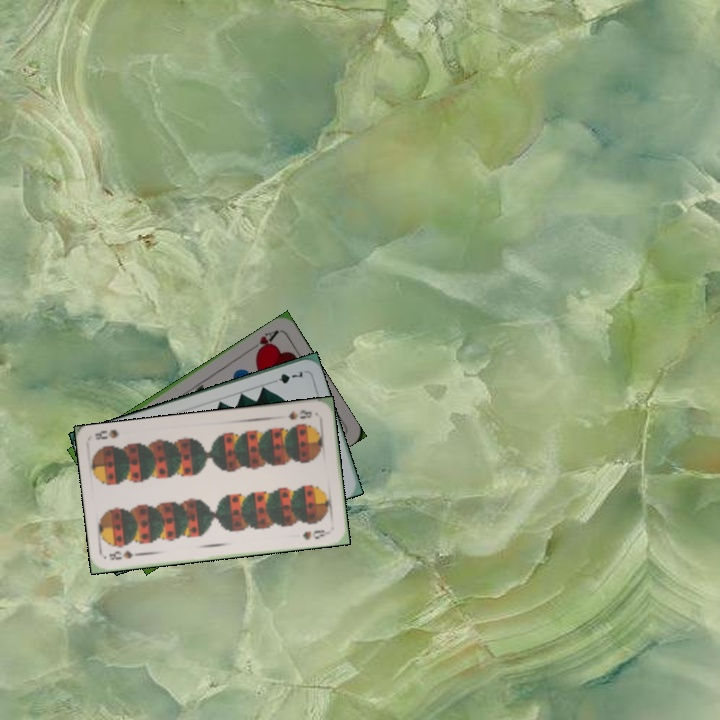G7: (267, 367, 307, 386)
HA: (245, 326, 281, 356)
S8: (105, 546, 145, 563), (284, 406, 315, 422)
